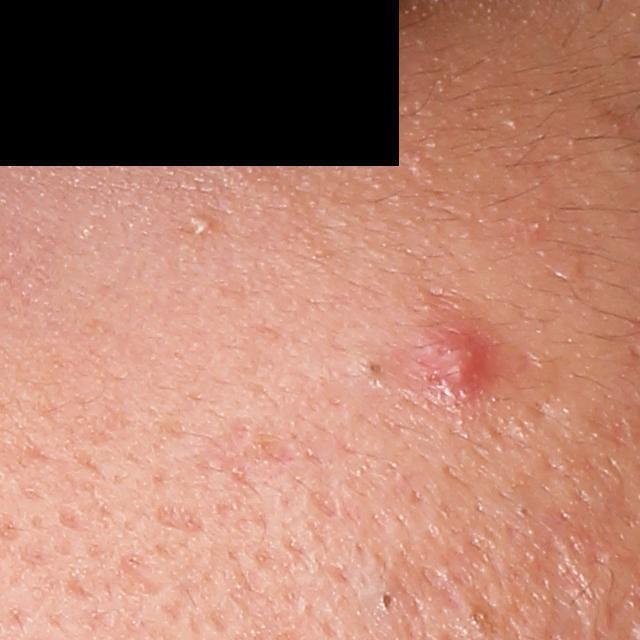atrophic_scar: (192, 414, 295, 491), (151, 502, 211, 535), (308, 485, 342, 518)
comedo: (182, 208, 221, 241), (355, 352, 388, 384), (376, 590, 401, 615)
papule: (406, 306, 496, 395)
